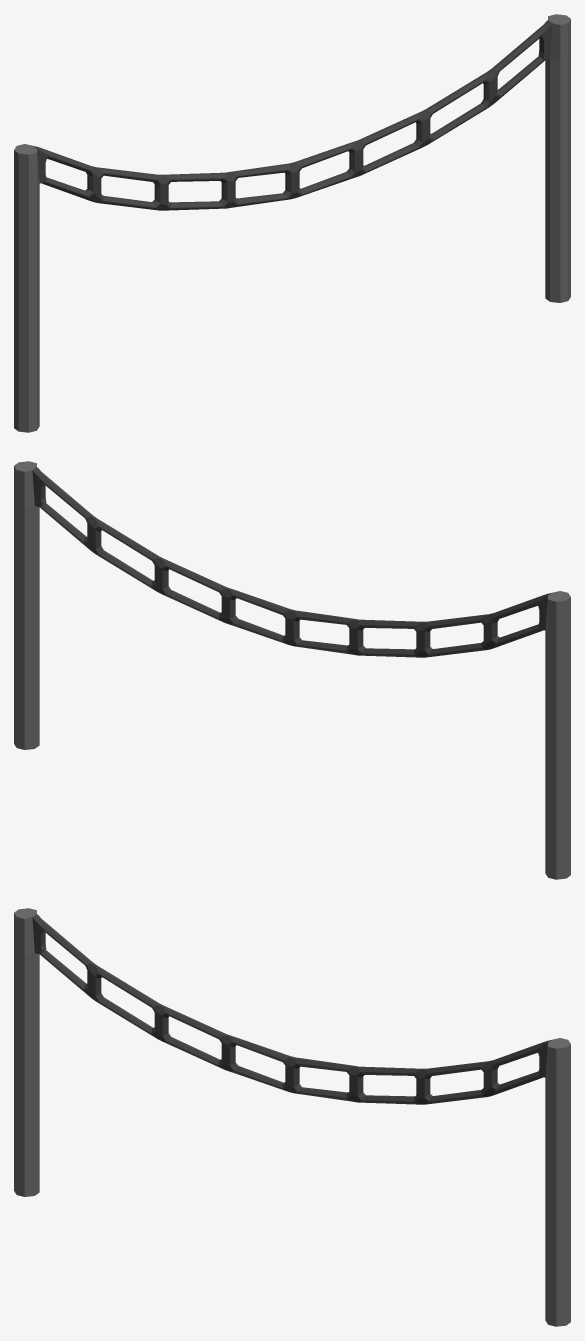
File: metalFence.fbx
3 renders of one model, top to bottom at view 1: azimuth 30°, elevation 25°; view 2: azimuth 150°, elevation 25°; view 3: azimuth 330°, elevation 25°, orthographic.
Parts seen in each view (by area): view 1: MetalFence; view 2: MetalFence; view 3: MetalFence.
Part boxes in pixels (bbox=[...]): MetalFence: bbox=[14, 14, 570, 432]; MetalFence: bbox=[14, 461, 570, 879]; MetalFence: bbox=[14, 908, 570, 1326].
Size of the model in its own units: 416 by 200 by 15.69.
